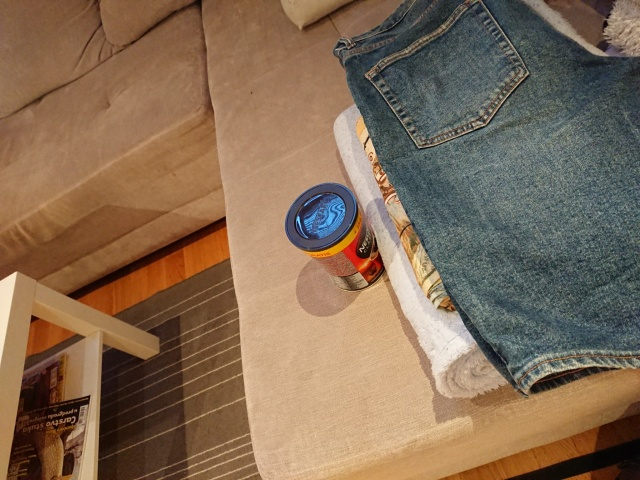Nescafe Classic 225g: (282, 180, 392, 294)
